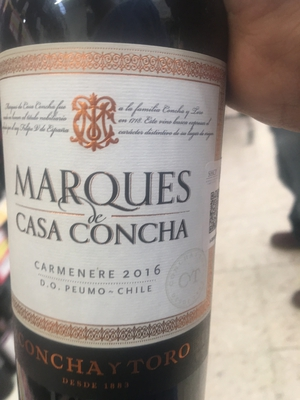marques de casa concha carmenere: (2, 22, 230, 400)
